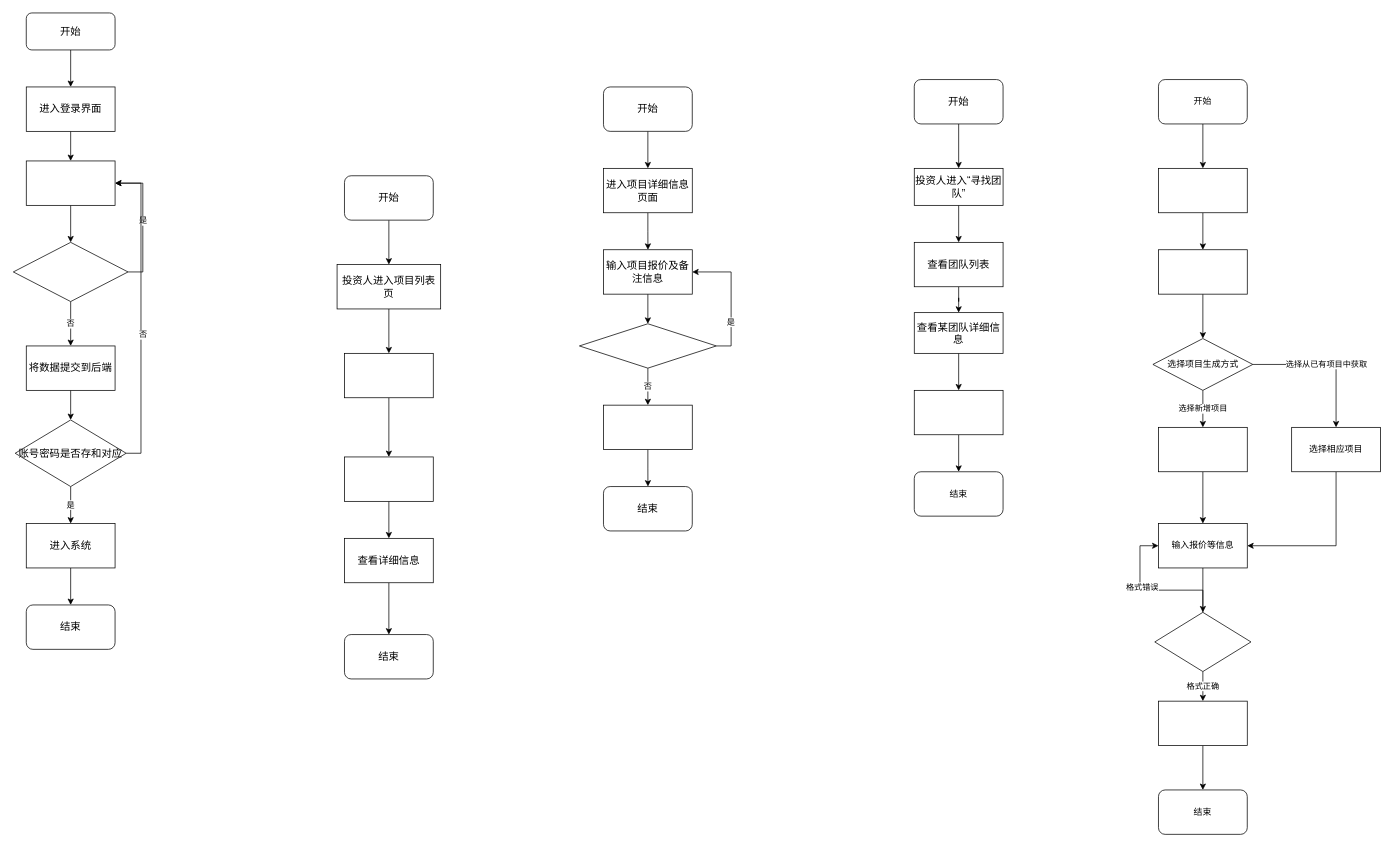
Image size: 1393x847. Some labels were removed from this diagram. The shapes that lost their labels are listed below. From the top down, each one's centre as x and y in pixels, then its label:
the point at 70,182: 输入账号/密码
the point at 1202,190: 进入某团队详细信息页面
the point at 70,272: 输入信息格式是否存在问题
the point at 1202,271: 选择委托项目
the point at 647,345: 输入格式是否有问题
the point at 388,375: 输入关键字进行查询
the point at 647,427: 提交投资信息
the point at 958,412: 对该团队进行团队孵化
the point at 1202,449: 新增项目操作
the point at 388,478: 选择相应的标签过滤信息
the point at 1202,642: 验证输入信息格式
the point at 1202,723: 点击按钮，完成委托
